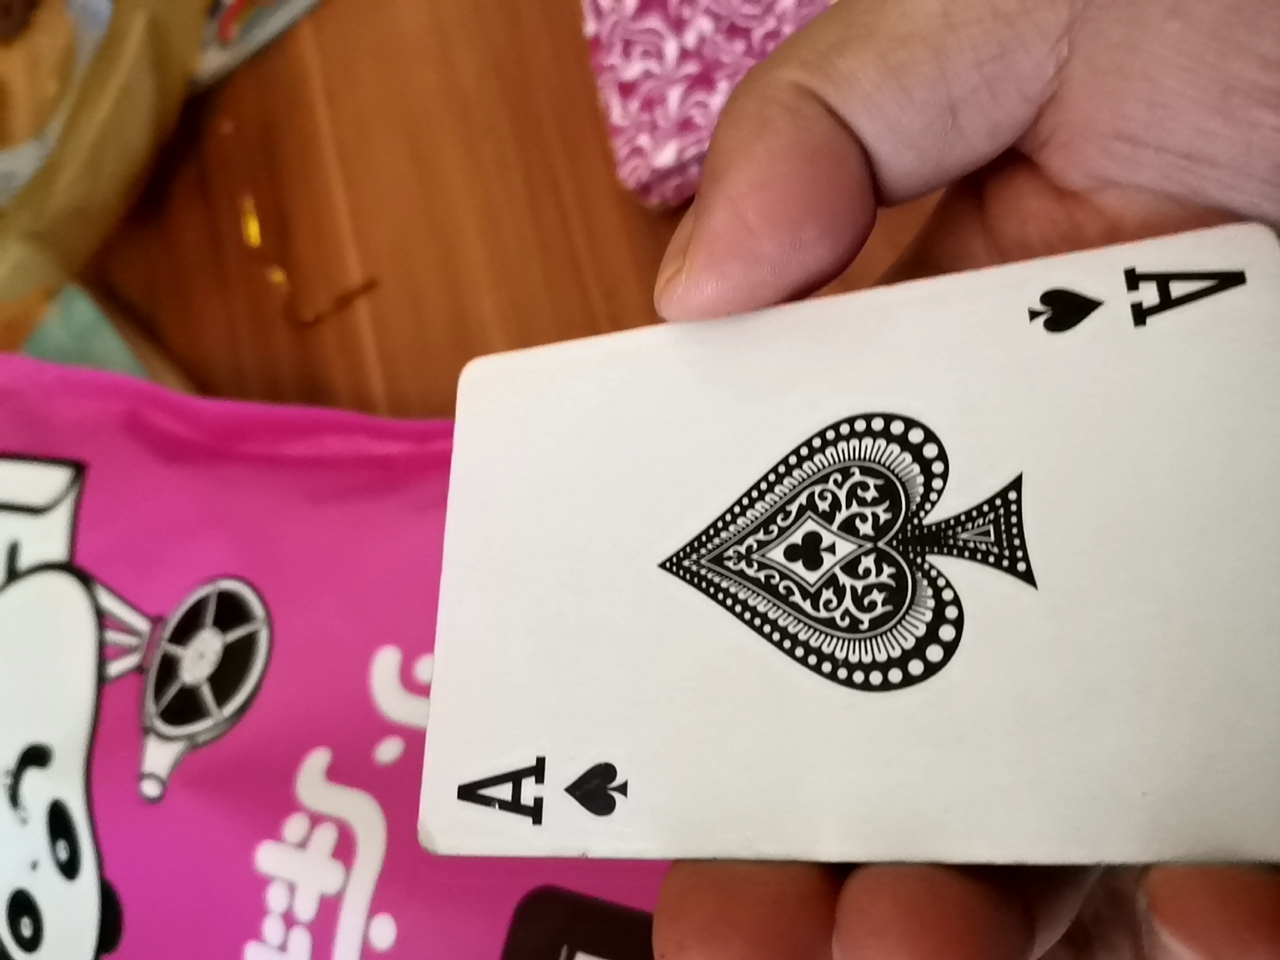ht a: (399, 207, 1266, 886)
